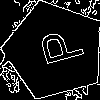P: (29, 25, 85, 70)
